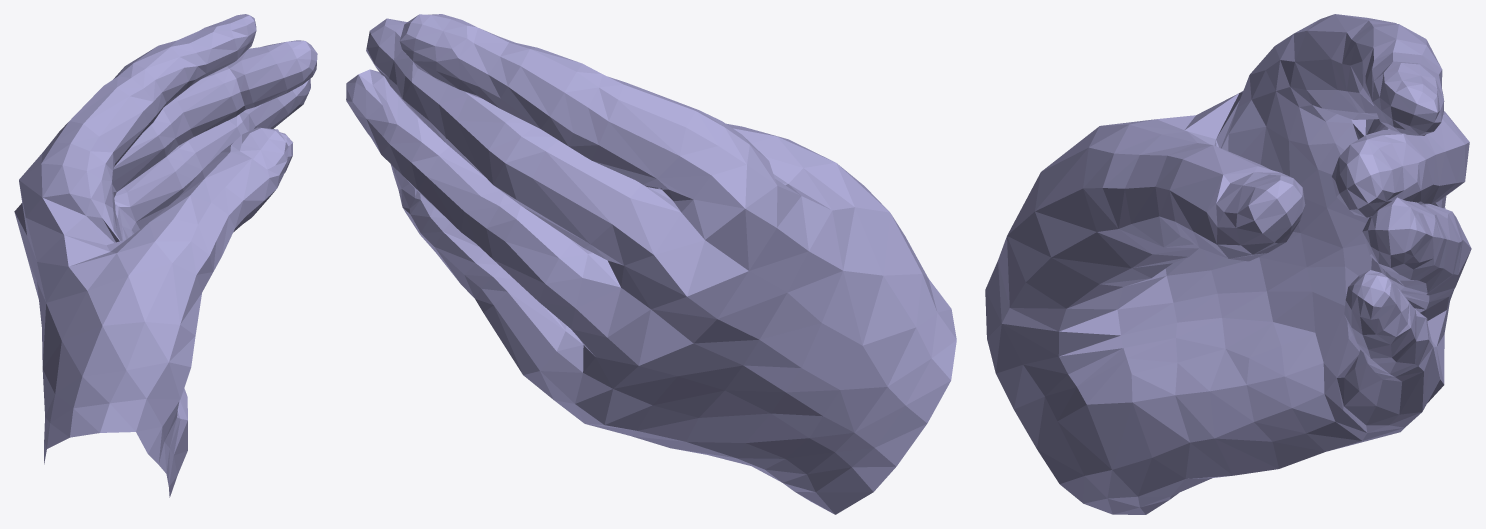
The model's file is frame_0004_source_000004_hand.glb.
3 renders of one model, left to right at view 1: azimuth 30°, elevation 25°; view 2: azimuth 150°, elevation 25°; view 3: azimuth 270°, elevation 25°, orthographic. The views are drawn at different scales.
Parts seen in each view (by area): view 1: world; view 2: world; view 3: world.
Part boxes in pixels (x1,y1,x2,y2): world: (14,14,317,497); world: (346,14,956,514); world: (985,14,1471,514).
Size of the model in its own units: 0.1281 by 0.1297 by 0.0968.
